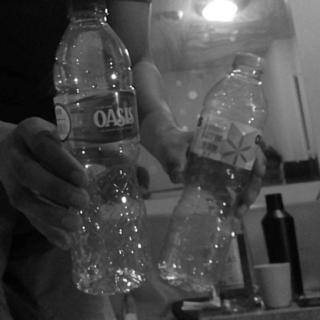plastic_bottles: (56, 7, 148, 291), (158, 56, 266, 288)
